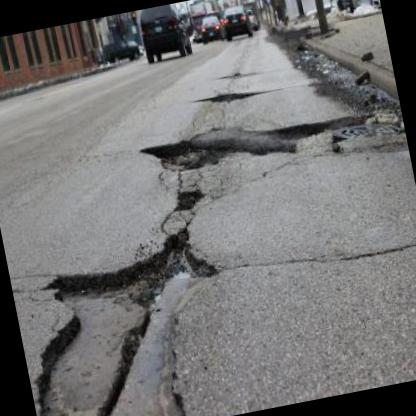pothole: (7, 220, 249, 416), (136, 130, 222, 182), (266, 106, 366, 145), (197, 85, 255, 107), (168, 184, 207, 214)
